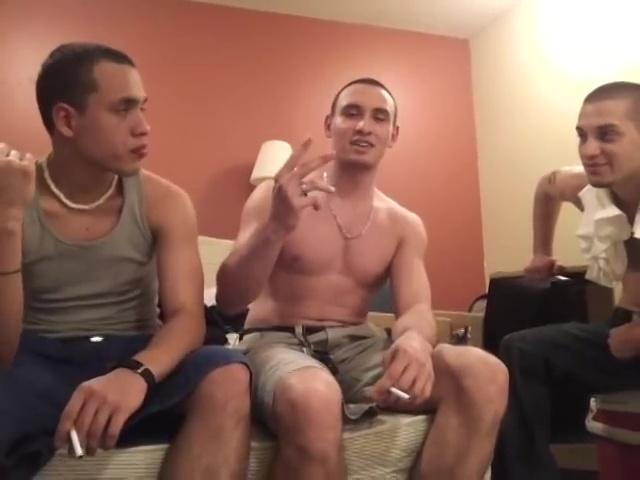cigarette: (68, 424, 85, 463), (389, 384, 414, 400)
